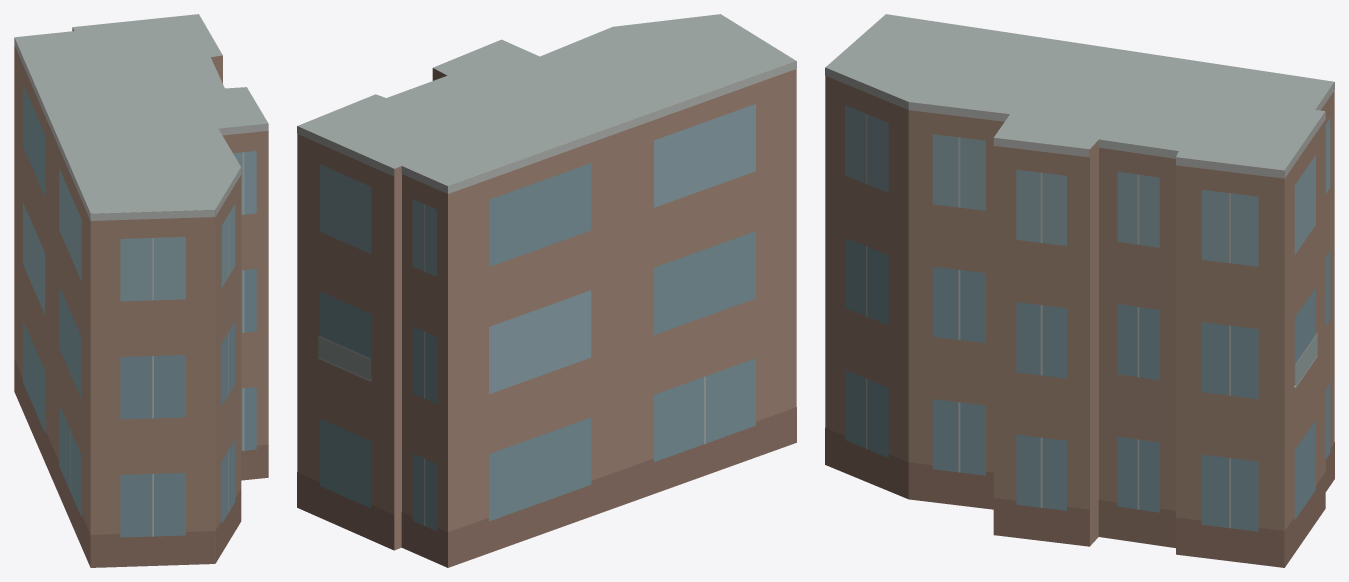
File: survey-upis-32461495.glb
3 views of the same model, side by side, from view 1: azimuth 30°, elevation 25°; view 2: azimuth 150°, elevation 25°; view 3: azimuth 270°, elevation 25° (orthographic). The views are drawn at different scales.
Visible parts, largest first — view 1: survey-upis-32461495.tmp; view 2: survey-upis-32461495.tmp; view 3: survey-upis-32461495.tmp.
Part boxes in pixels (bbox=[...]): survey-upis-32461495.tmp: bbox=[14, 14, 268, 567]; survey-upis-32461495.tmp: bbox=[297, 14, 796, 567]; survey-upis-32461495.tmp: bbox=[825, 14, 1334, 567].
Bounding box in the file's own units: 10.06 × 11.9 × 13.84.
